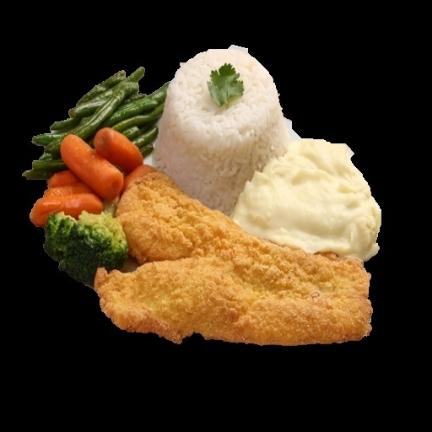broccoli: (44, 211, 128, 286)
carrot: (31, 128, 153, 226)
chicken: (94, 173, 372, 345)
green_beans: (23, 67, 169, 179)
potato: (232, 139, 381, 260)
rice: (154, 49, 290, 214)
